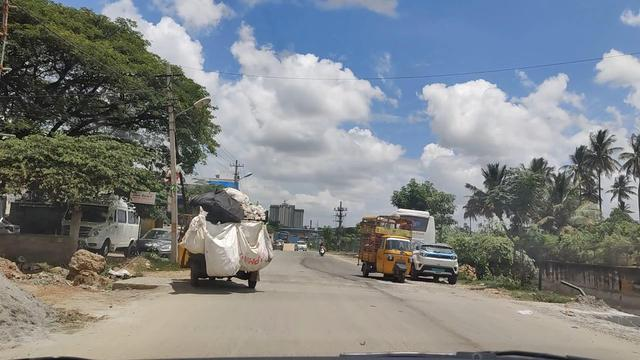HMV: (186, 194, 278, 293), (353, 222, 418, 287)
RoadDamages: (376, 336, 439, 353)
